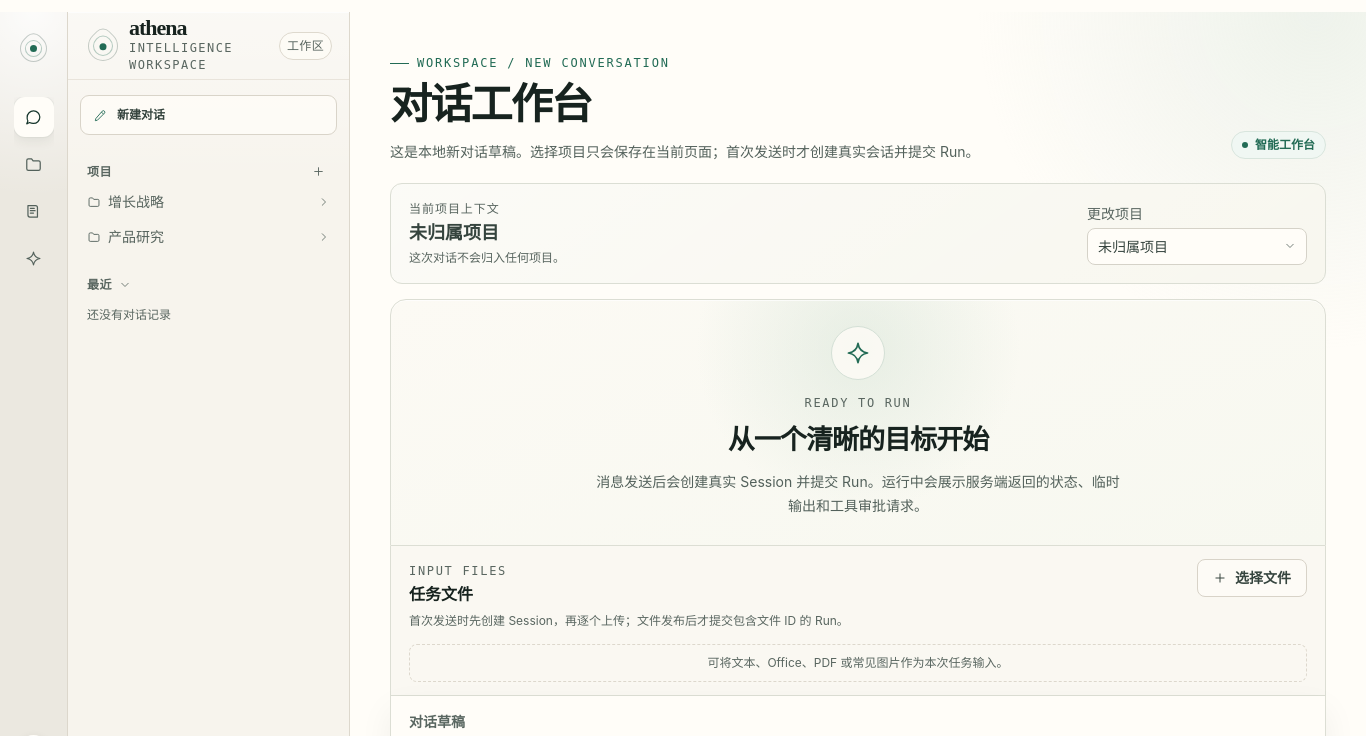
Test: 对话侧栏项目树 › 点击项目只展开会话，多个项目可同时展开且不会导航
This screenshot has width=1366, height=736.
Expected: the heading "对话工作台" is shown, [390,82,591,128]
Click the button "增长战略" at (208, 202), box [79,185,338,218]
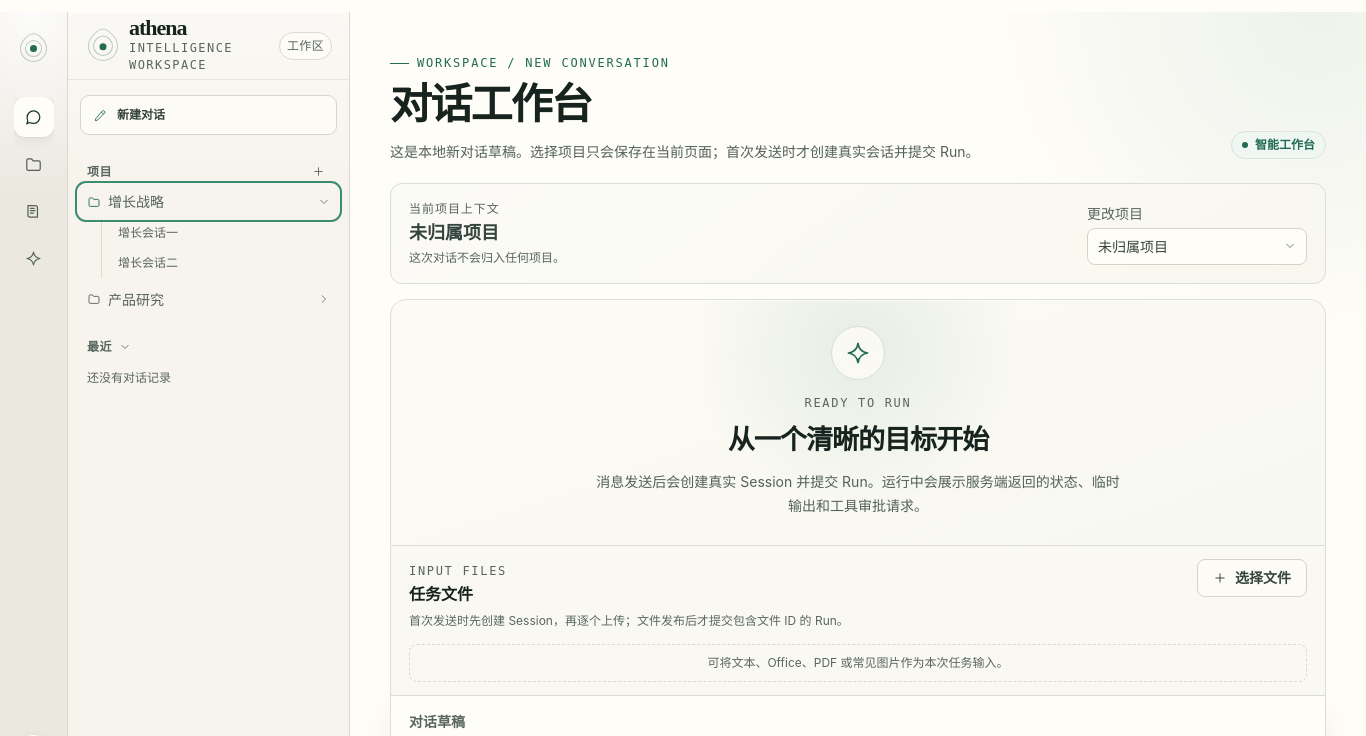
Expected: the link "增长会话一" is shown, [118,225,178,240]
Click the button "产品研究" at (208, 299), box [79,283,338,316]
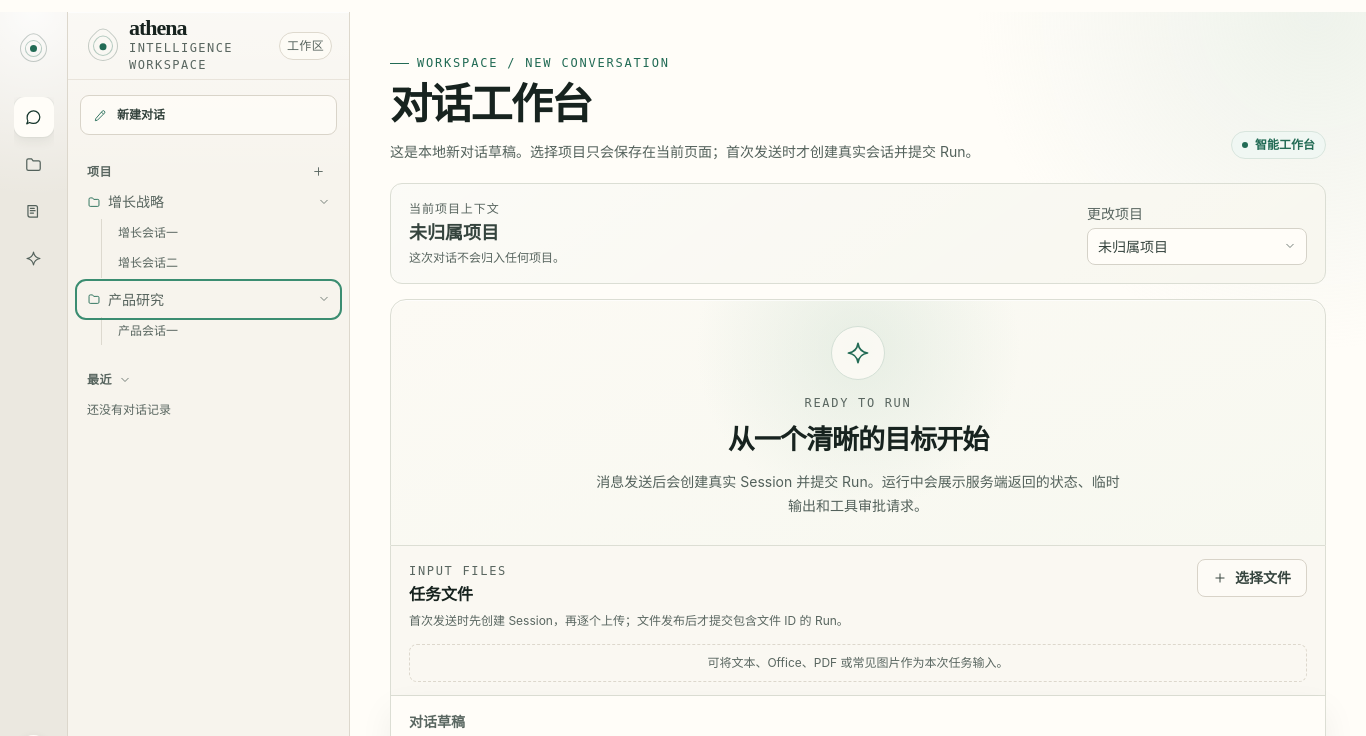
Expected: the link "增长会话一" is shown, [118,225,178,240]
Expected: the link "产品会话一" is shown, [118,323,178,338]
Click the button "增长战略" at (208, 202), box [79,185,338,218]
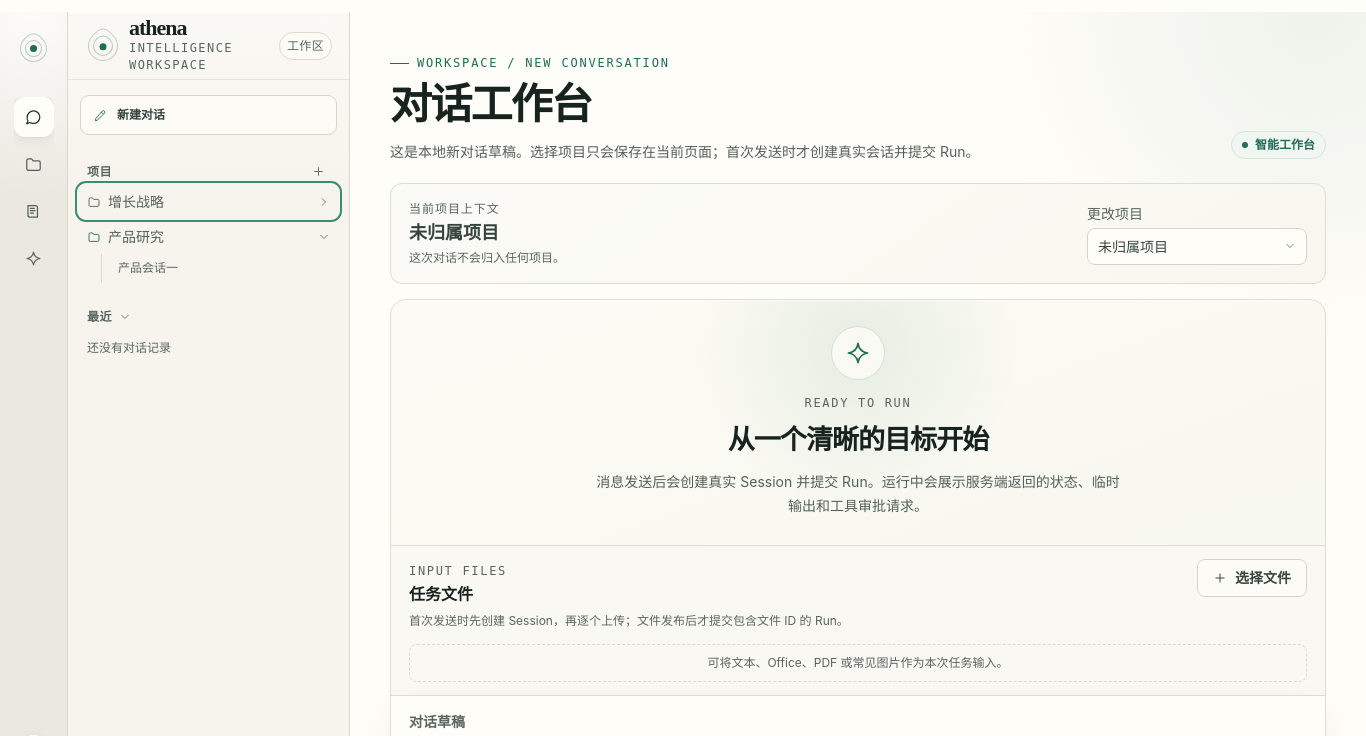
Expected: the link "产品会话一" is shown, [118,260,178,275]
Expected: the link "增长会话一" is gone
